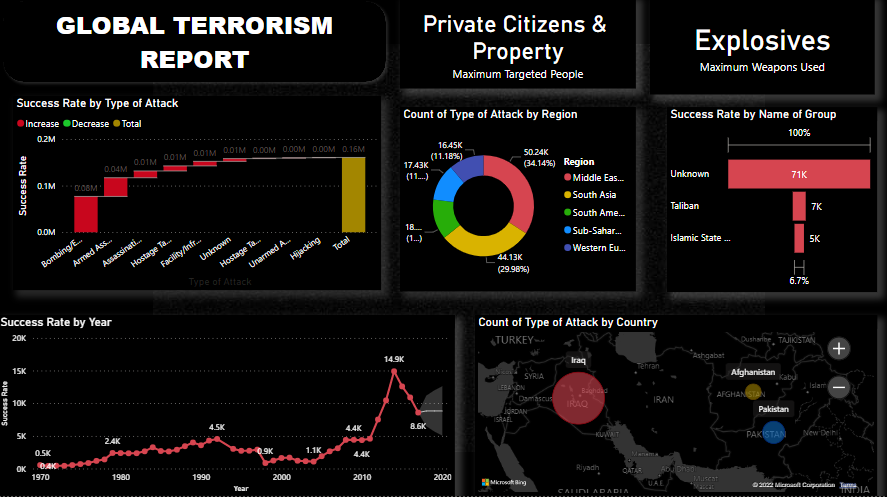

Layout of this report page (visuals, bound fields, positions):
{"tool":"powerbi","page":{"name":"Page 1","canvas":[1280,720],"ordinal":0},"visuals":[{"type":"map","fields":{"Category":["Sheet1.Country"],"Size":["CountNonNull(Sheet1.Type of Attack)"]},"box":[686.9,459.9,577.7,260.1],"z":0},{"type":"waterfallChart","fields":{"Category":["Sheet1.Type of Attack"],"Y":["Sum(Sheet1.Success Rate)"]},"box":[23,145.1,528.9,278.8],"z":1000},{"type":"funnel","fields":{"Category":["Sheet1.Weapon Type"],"Y":["CountNonNull(Sheet1.Type of Attack)"]},"box":[15.1,493.9,552.7,226.8],"z":2000},{"type":"funnel","fields":{"Category":["Sheet1.Name of Group"],"Y":["Sum(Sheet1.Success Rate)"]},"box":[962.9,161,301.8,265.9],"z":3000},{"type":"donutChart","fields":{"Category":["Sheet1.Region"],"Y":["CountNonNull(Sheet1.Type of Attack)"]},"box":[579.5,161.3,339.3,265.4],"z":4000},{"type":"map","fields":{"Category":["Sheet1.Country"],"Series":["Sheet1.Type of Attack"]},"box":[152.9,505.6,278.8,151.2],"z":5000},{"type":"lineChart","fields":{"Category":["Sheet1.Year"],"Y":["Sum(Sheet1.Success Rate)"]},"box":[0,459.9,658.2,260.1],"z":6000},{"type":"shape","box":[0,0,567.8,134.4],"z":7000},{"type":"card","fields":{"Values":["Min(Sheet1.Target Type)"]},"box":[579.5,1.7,339.3,132.7],"z":8000},{"type":"card","fields":{"Values":["Min(Sheet1.Weapon Type)"]},"box":[939,0,322.5,142.8],"z":9000}]}

Visuals, with their boxes in screenshot pixels (x1, y1, x2, y2), scaled from the page's 1280x720 canvas onto the 887x497 screenshot:
map - Sheet1.Country x CountNonNull(Sheet1.Type of Attack): {"x1": 476, "y1": 317, "x2": 876, "y2": 496}
waterfallChart - Sheet1.Type of Attack x Sum(Sheet1.Success Rate): {"x1": 16, "y1": 100, "x2": 382, "y2": 293}
funnel - Sheet1.Weapon Type x CountNonNull(Sheet1.Type of Attack): {"x1": 10, "y1": 341, "x2": 393, "y2": 496}
funnel - Sheet1.Name of Group x Sum(Sheet1.Success Rate): {"x1": 667, "y1": 111, "x2": 876, "y2": 295}
donutChart - Sheet1.Region x CountNonNull(Sheet1.Type of Attack): {"x1": 402, "y1": 111, "x2": 637, "y2": 295}
map - Sheet1.Country x Sheet1.Type of Attack: {"x1": 106, "y1": 349, "x2": 299, "y2": 453}
lineChart - Sheet1.Year x Sum(Sheet1.Success Rate): {"x1": 0, "y1": 317, "x2": 456, "y2": 496}
shape: {"x1": 0, "y1": 0, "x2": 393, "y2": 93}
card - Min(Sheet1.Target Type): {"x1": 402, "y1": 1, "x2": 637, "y2": 93}
card - Min(Sheet1.Weapon Type): {"x1": 651, "y1": 0, "x2": 874, "y2": 99}
